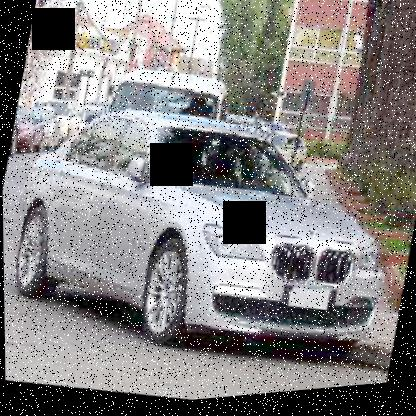not_emergency: (1, 65, 415, 396)
